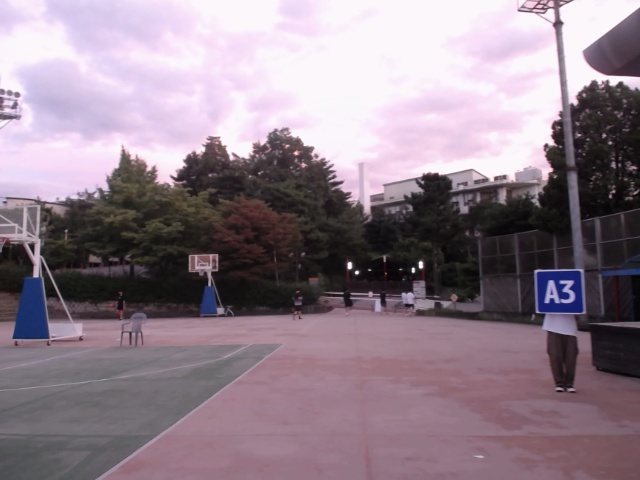delivery_a3: (534, 271, 586, 315)
